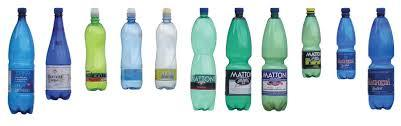Plastic bottle: (215, 11, 255, 118), (362, 11, 400, 114), (4, 7, 39, 115), (188, 9, 219, 121), (291, 8, 321, 119), (260, 7, 288, 113), (48, 5, 75, 114), (82, 7, 113, 101), (117, 5, 146, 105), (152, 9, 182, 102), (332, 8, 359, 99)
